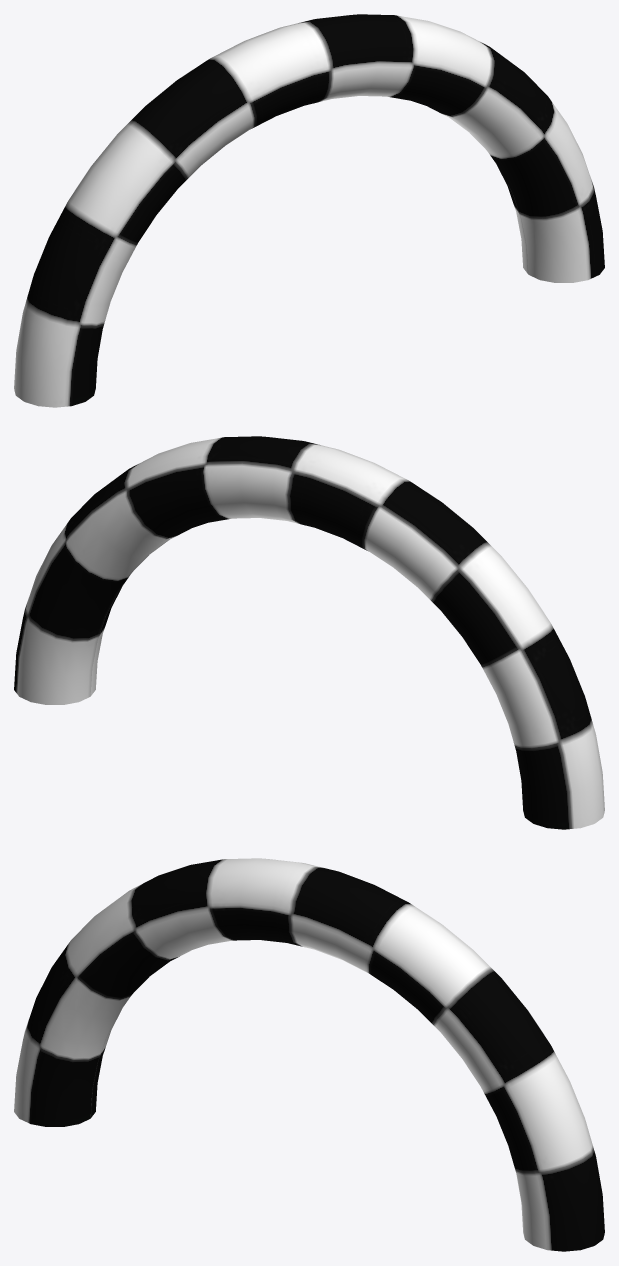
Rendered from Finish_line_Atlas_CM.fbx.
The picture shows the model from 3 angles, top to bottom: view 1: azimuth 30°, elevation 25°; view 2: azimuth 150°, elevation 25°; view 3: azimuth 330°, elevation 25°; orthographic projection.
Visible parts, largest first — view 1: pTorus1; view 2: pTorus1; view 3: pTorus1.
Boxes of the visible parts, x1,y1,x2,y2 form: pTorus1: (14, 14, 604, 407); pTorus1: (14, 436, 604, 829); pTorus1: (14, 858, 604, 1251).
Bounding box in the file's own units: 995 × 496 × 122.
1 material, 1 textured.
